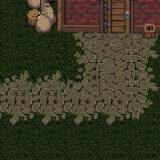Obstacle: (23, 0, 160, 69)
